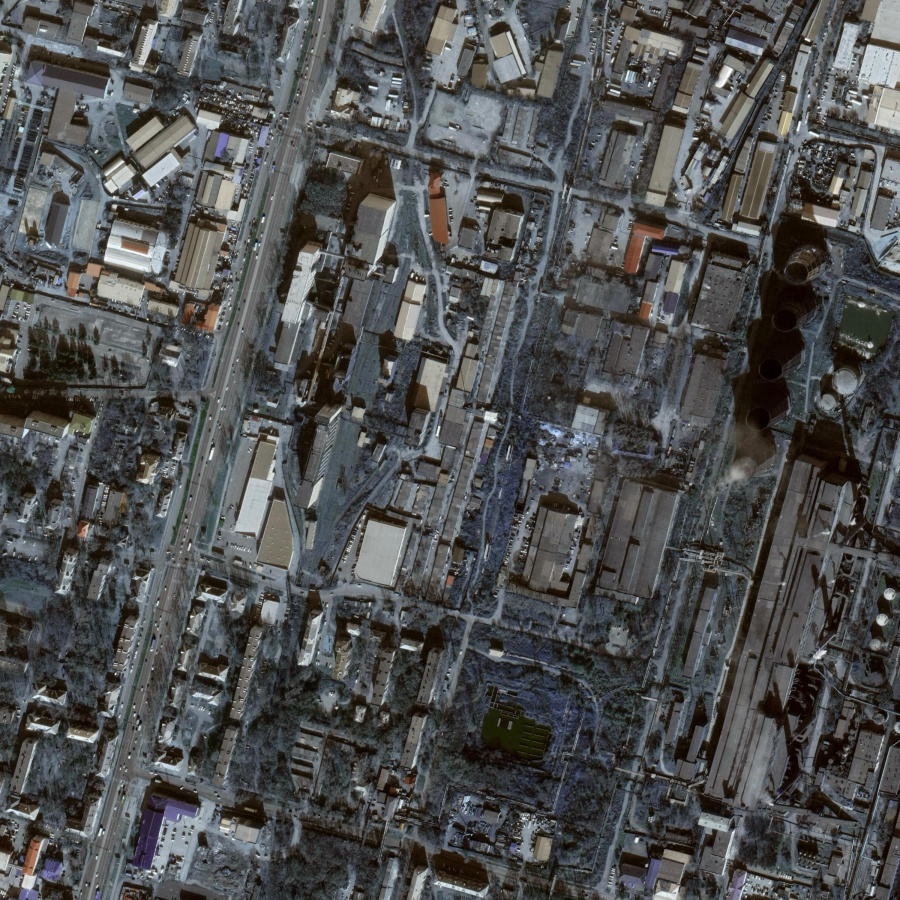PowerPlant: (700, 196, 870, 535)
